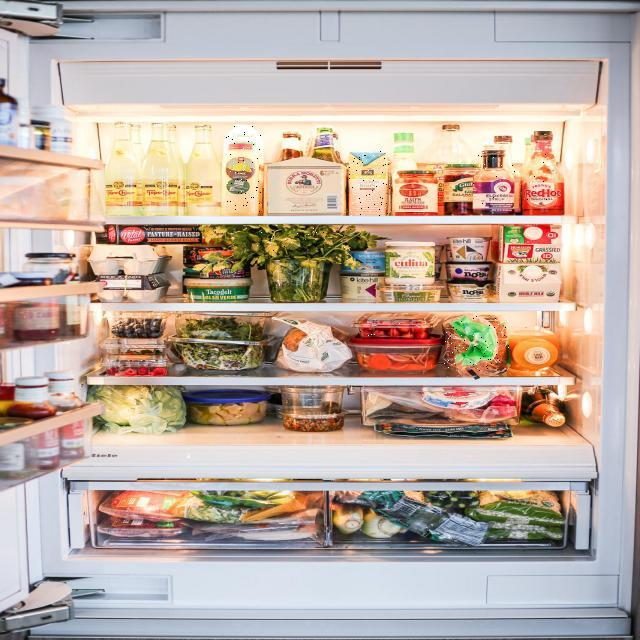blueberries: (116, 318, 158, 336)
bread: (443, 316, 510, 371)
milk: (226, 126, 261, 216), (349, 151, 390, 216)
parsley: (246, 226, 355, 261)
sauce: (525, 132, 564, 214), (473, 151, 518, 212)
tomato: (373, 328, 386, 338), (358, 330, 372, 338), (396, 322, 408, 331), (412, 324, 426, 331), (401, 332, 414, 338), (414, 332, 425, 338)
